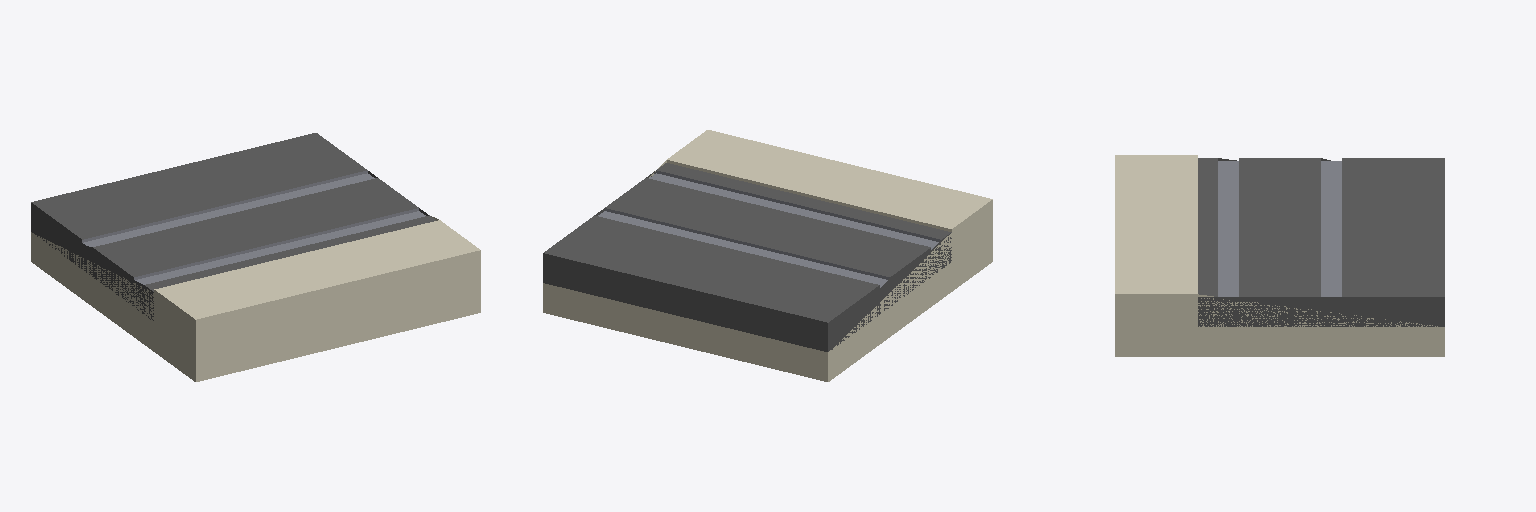
The model's file is roadTile_099.obj.
3 renders of one model, left to right at view 1: azimuth 30°, elevation 25°; view 2: azimuth 150°, elevation 25°; view 3: azimuth 270°, elevation 25°, orthographic.
Visible parts, largest first — view 1: Mesh1 Group1 Model; view 2: Mesh1 Group1 Model; view 3: Mesh1 Group1 Model.
Part boxes in pixels (bbox=[...]): Mesh1 Group1 Model: bbox=[31, 133, 480, 381]; Mesh1 Group1 Model: bbox=[543, 130, 992, 381]; Mesh1 Group1 Model: bbox=[1115, 155, 1444, 356].
Size of the model in its own units: 3 by 0.63 by 3.